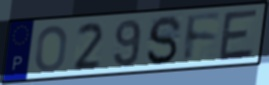2: (73, 20, 105, 72)
9: (110, 17, 143, 69)
E: (217, 7, 261, 63)
F: (183, 12, 223, 65)
O: (33, 24, 69, 74)
S: (145, 14, 184, 67)
